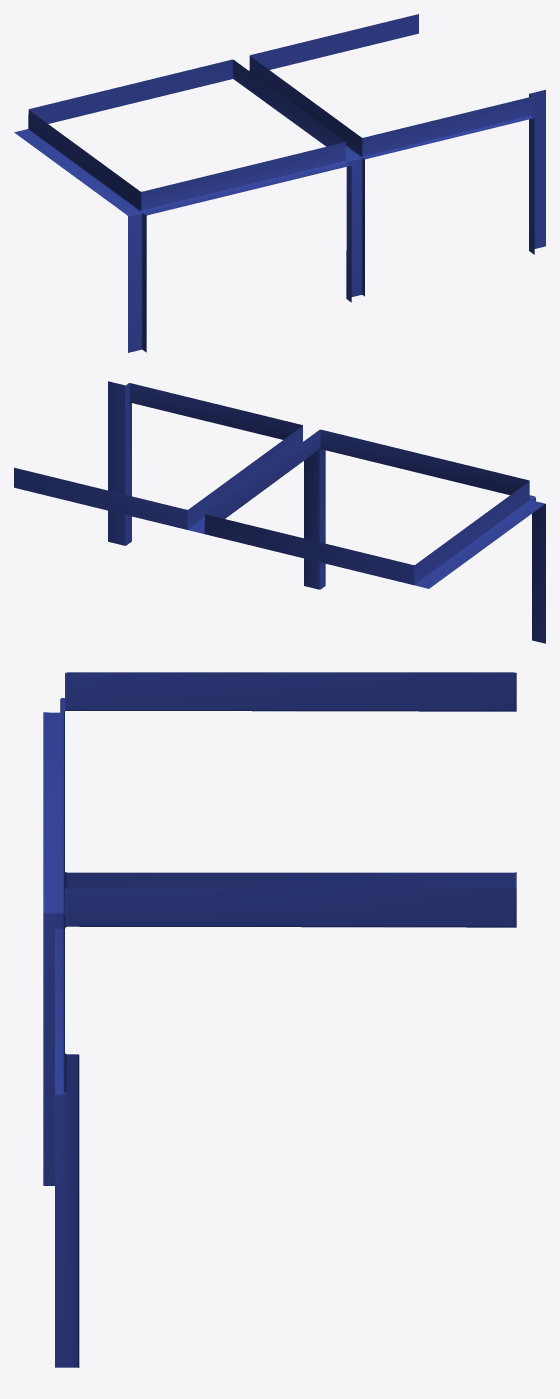
Rendered from LivingRoomConcrete.obj.
3 renders of one model, top to bottom at view 1: azimuth 30°, elevation 25°; view 2: azimuth 150°, elevation 25°; view 3: azimuth 270°, elevation 25°, orthographic. The views are drawn at different scales.
Parts seen in each view (by area): view 1: Concrete_Living_Room_Vert.051; view 2: Concrete_Living_Room_Vert.051; view 3: Concrete_Living_Room_Vert.051.
Part boxes in pixels (<box>): Concrete_Living_Room_Vert.051: <box>14,14,545,352</box>; Concrete_Living_Room_Vert.051: <box>14,381,545,643</box>; Concrete_Living_Room_Vert.051: <box>43,672,516,1367</box>.
Size of the model in its own units: 9.1 by 3.22 by 4.41.
